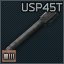HK USP Tactical .45 ACP threaded barrel: (0, 0, 64, 64)
